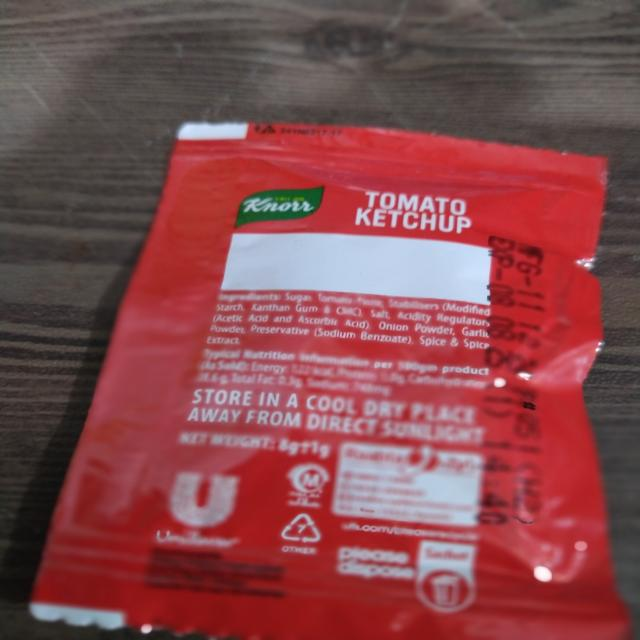electronic: (28, 120, 631, 638)
